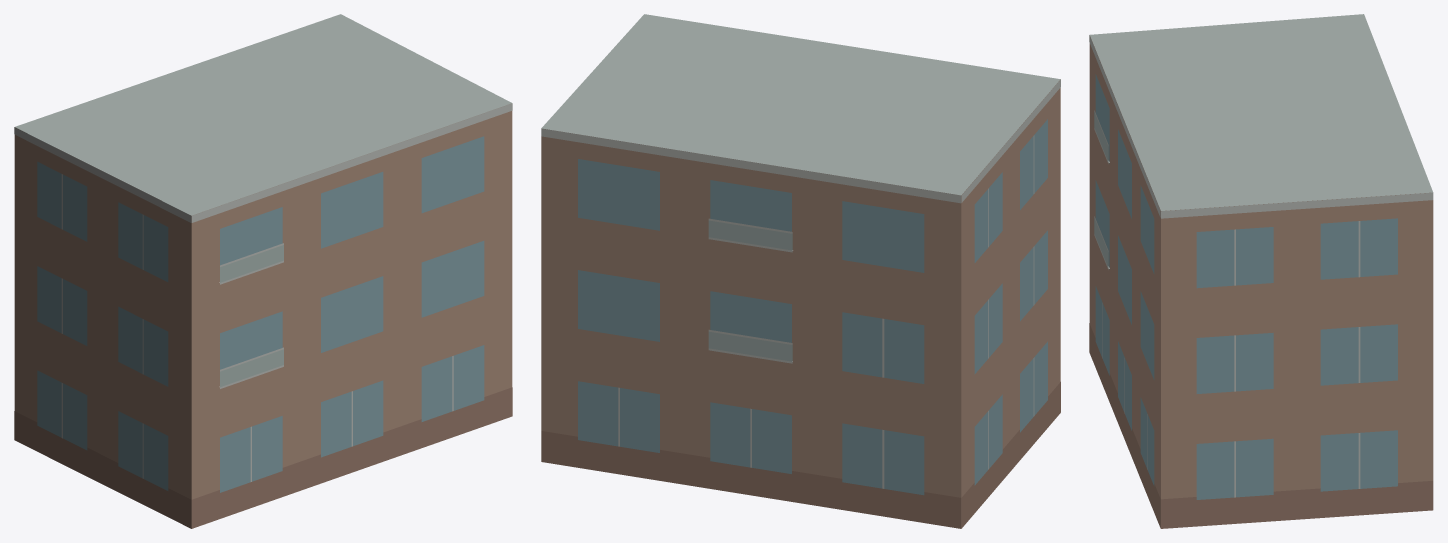
Rendered from survey-upis-32621904.glb.
The picture shows the model from 3 angles, left to right: view 1: azimuth 30°, elevation 25°; view 2: azimuth 150°, elevation 25°; view 3: azimuth 270°, elevation 25°; orthographic projection. The views are drawn at different scales.
Visible parts, largest first — view 1: survey-upis-32621904.tmp; view 2: survey-upis-32621904.tmp; view 3: survey-upis-32621904.tmp.
Part boxes in pixels (x1,y1,x2,y2): survey-upis-32621904.tmp: (14,14,512,528); survey-upis-32621904.tmp: (541,14,1060,528); survey-upis-32621904.tmp: (1089,14,1433,528).
Bounding box in the file's own units: 13.57 × 10.2 × 10.01.
